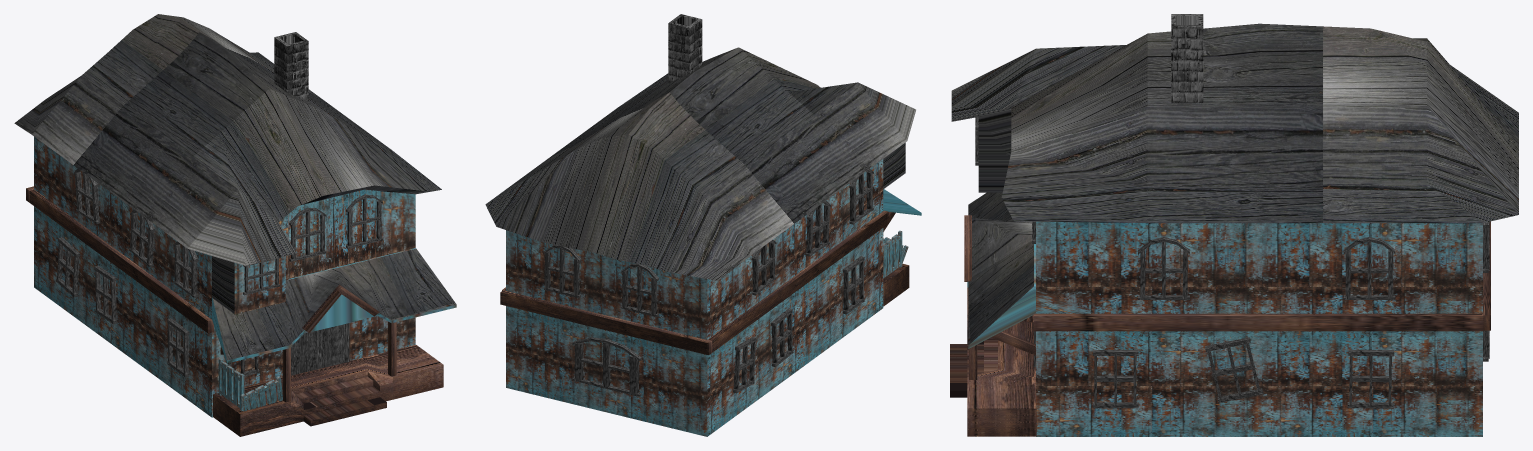
The model's file is uploads_files_3035409_HorrorHous.fbx.
3 views of the same model, side by side, from view 1: azimuth 30°, elevation 25°; view 2: azimuth 150°, elevation 25°; view 3: azimuth 270°, elevation 25° (orthographic). The views are drawn at different scales.
Parts seen in each view (by area): view 1: Cube.043, Cube.042, Cube.044, Cube.030, Cube.003, Cube.037, Cube.032, Cube.031, Cube, Cube.045, Cube.014, Cube.025 (+12 smaller); view 2: Cube.043, Cube.041, Cube.042, Cube.038, Cube.037, Cube.031, Cube.039, Cube.029, Cube.027, Cube.015, Cube.017, Cube.018 (+7 smaller); view 3: Cube.043, Cube.040, Cube.036, Cube.003, Cube.030, Cube.031, Cube.045, Cube.026, Cube.021, Cube.023, Cube.024, Cube.022 (+2 smaller).
Boxes of the visible parts, <box> form: Cube.043: <box>14,14,441,265</box>; Cube.042: <box>34,136,211,417</box>; Cube.044: <box>212,189,415,417</box>; Cube.030: <box>213,248,456,360</box>; Cube.003: <box>213,345,443,436</box>; Cube.037: <box>29,189,213,333</box>; Cube.032: <box>291,323,349,375</box>; Cube.031: <box>274,32,308,101</box>; Cube: <box>212,248,456,363</box>; Cube.045: <box>212,256,234,313</box>; Cube.014: <box>173,241,198,297</box>; Cube.025: <box>346,194,383,248</box>; Cube.043: <box>485,47,915,280</box>; Cube.041: <box>506,230,707,436</box>; Cube.042: <box>707,159,883,436</box>; Cube.038: <box>500,290,712,355</box>; Cube.037: <box>708,210,888,352</box>; Cube.031: <box>668,14,702,82</box>; Cube.039: <box>572,337,641,396</box>; Cube.029: <box>621,263,658,317</box>; Cube.027: <box>543,245,581,298</box>; Cube.015: <box>805,200,830,256</box>; Cube.017: <box>843,256,864,314</box>; Cube.018: <box>732,336,756,393</box>; Cube.043: <box>951,23,1518,223</box>; Cube.040: <box>1036,221,1482,436</box>; Cube.036: <box>1033,313,1483,331</box>; Cube.003: <box>950,287,1036,436</box>; Cube.030: <box>968,192,1033,345</box>; Cube.031: <box>1171,14,1203,103</box>; Cube.045: <box>978,110,1011,192</box>; Cube.026: <box>1343,237,1395,299</box>; Cube.021: <box>1138,237,1189,299</box>; Cube.023: <box>1205,337,1263,403</box>; Cube.024: <box>1347,349,1394,408</box>; Cube.022: <box>1093,350,1138,408</box>.
Bounding box in the file's own units: 1041 × 1200 × 1641.
Materials: 9 (9 with a texture image).
